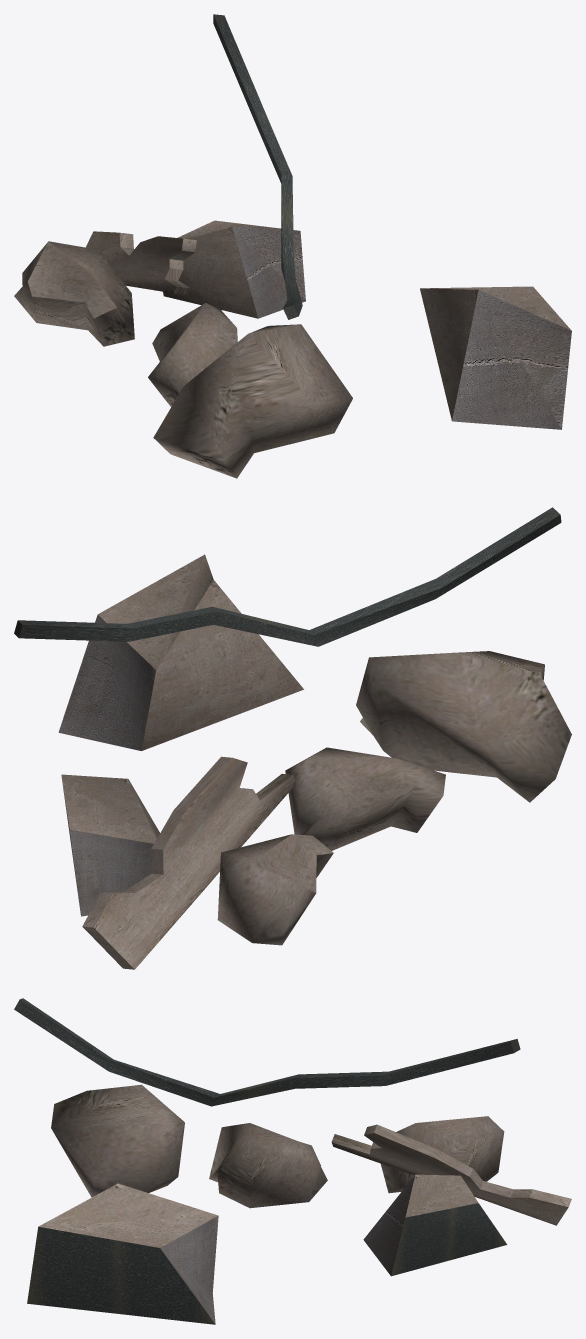
Rendered from M2_Zone4_FlyOver_Tunnel_C.glb.
3 renders of one model, top to bottom at view 1: azimuth 30°, elevation 25°; view 2: azimuth 150°, elevation 25°; view 3: azimuth 270°, elevation 25°, orthographic. The views are drawn at different scales.
Visible parts, largest first — view 1: M2_ZONE4_FLYOVER_TUNNEL_C; view 2: M2_ZONE4_FLYOVER_TUNNEL_C; view 3: M2_ZONE4_FLYOVER_TUNNEL_C.
Part boxes in pixels (<box>): M2_ZONE4_FLYOVER_TUNNEL_C: <box>14,14,571,478</box>; M2_ZONE4_FLYOVER_TUNNEL_C: <box>14,507,571,969</box>; M2_ZONE4_FLYOVER_TUNNEL_C: <box>14,998,571,1324</box>.
Bounding box in the file's own units: 10.88 × 6.75 × 14.48.
Materials: 6 (6 with a texture image).
